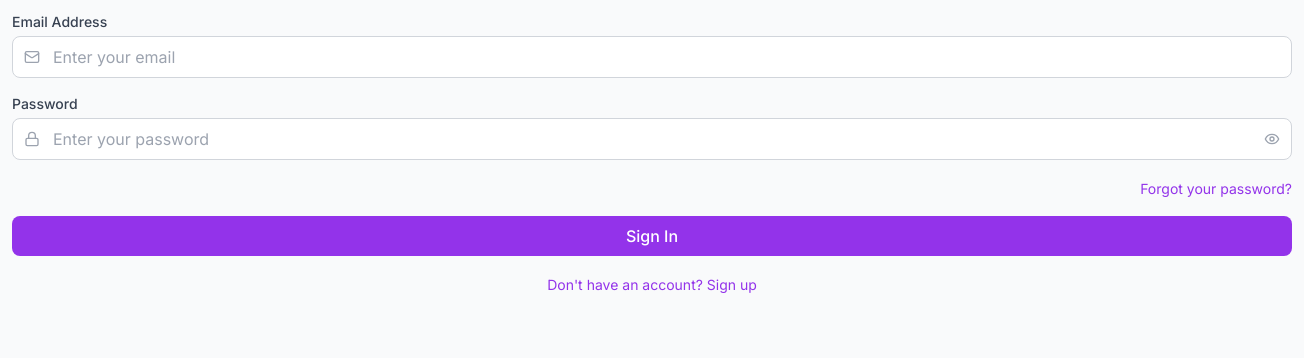
Scenario: LoginForm › clears errors when user starts typing
The width and height of the screenshot is (1304, 358).
# Trigger validation error
Click the button "Sign In" at (652, 236), box [12, 216, 1292, 256]
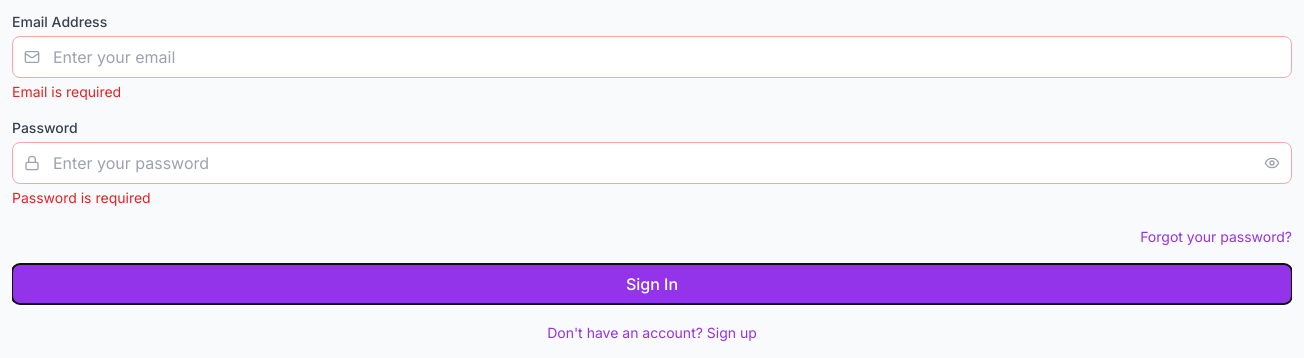
Expected: the text "Email is required" is shown, [12, 83, 121, 100]
# Start typing to clear error
Type "test" into the field labelled "Email Address" at (652, 57), box [12, 36, 1292, 78]
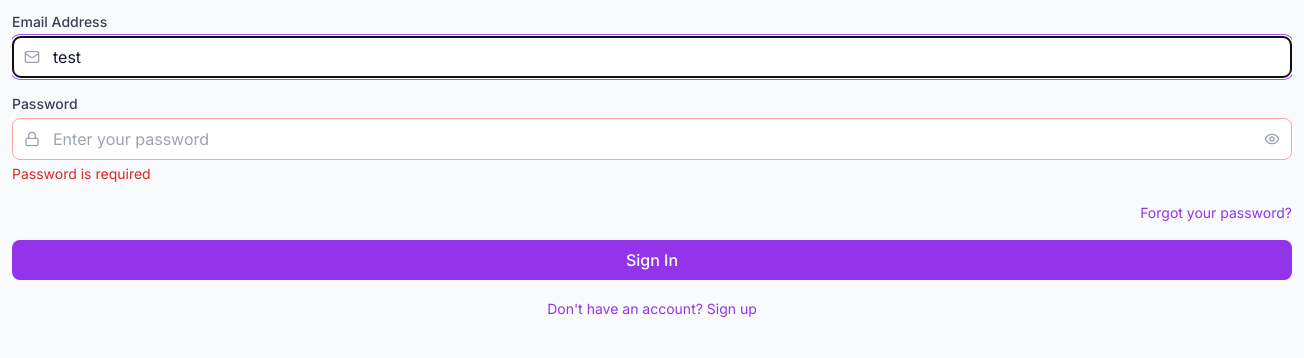
Expected: the text "Email is required" is gone
